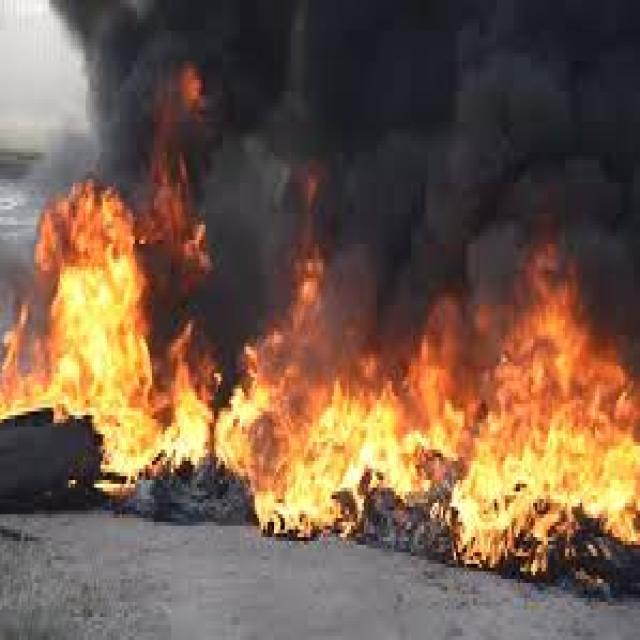Fire: (0, 178, 640, 574)
Smoke: (30, 0, 640, 175)
